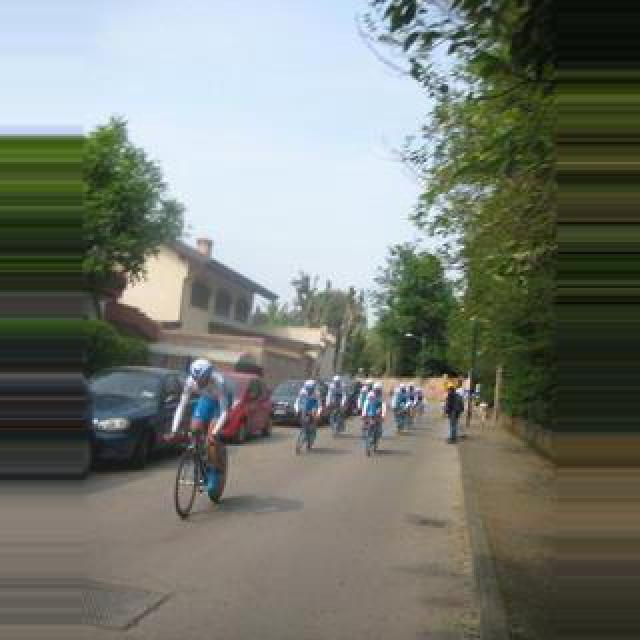Bus-Bike: (84, 366, 192, 470)
MC-Bike: (174, 358, 228, 498), (294, 384, 322, 454), (362, 386, 384, 452), (442, 386, 466, 444), (392, 386, 412, 434)
Person: (174, 428, 228, 520), (364, 412, 386, 458), (296, 412, 318, 454), (330, 404, 348, 440), (394, 406, 412, 432)
